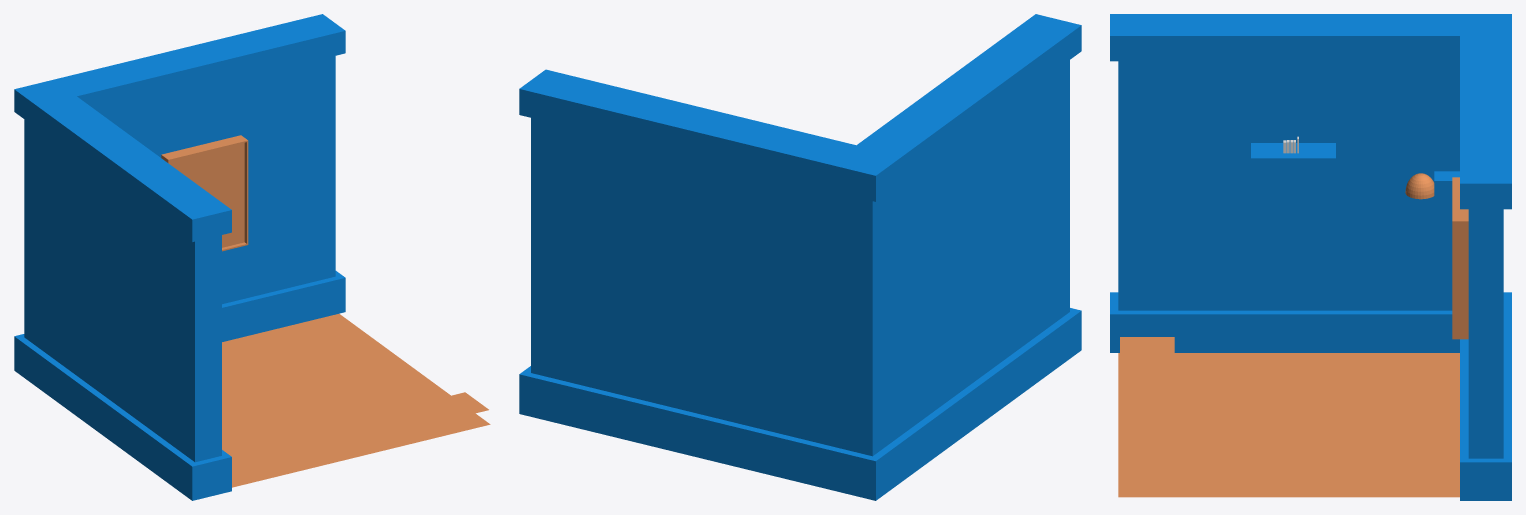
File: house.glb
3 renders of one model, left to right at view 1: azimuth 30°, elevation 25°; view 2: azimuth 150°, elevation 25°; view 3: azimuth 270°, elevation 25°, orthographic. The views are drawn at different scales.
Visible parts, largest first — view 1: Cube, Cube.001, Cube.002, Cube.003; view 2: Cube; view 3: Cube, Cube.001, Cube.002, Cube.003, Cube.004.
Boxes of the visible parts, <box> form: Cube: <box>14,14,345,500</box>; Cube.001: <box>222,314,490,487</box>; Cube.002: <box>224,392,488,472</box>; Cube.003: <box>161,135,248,251</box>; Cube: <box>519,14,1081,500</box>; Cube: <box>1110,14,1511,500</box>; Cube.001: <box>1118,353,1459,497</box>; Cube.002: <box>1120,337,1174,480</box>; Cube.003: <box>1452,177,1468,339</box>; Cube.004: <box>1405,173,1434,199</box>.
Size of the model in its own units: 2.3 by 2 by 2.3.
